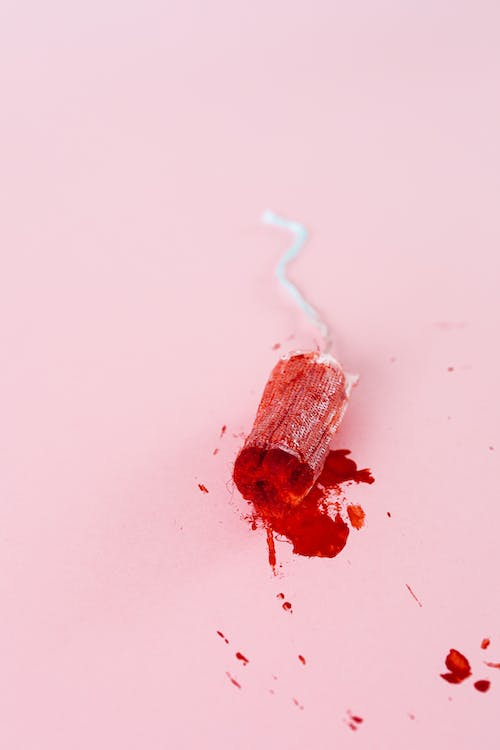blood: (191, 328, 500, 738), (228, 349, 361, 521)
